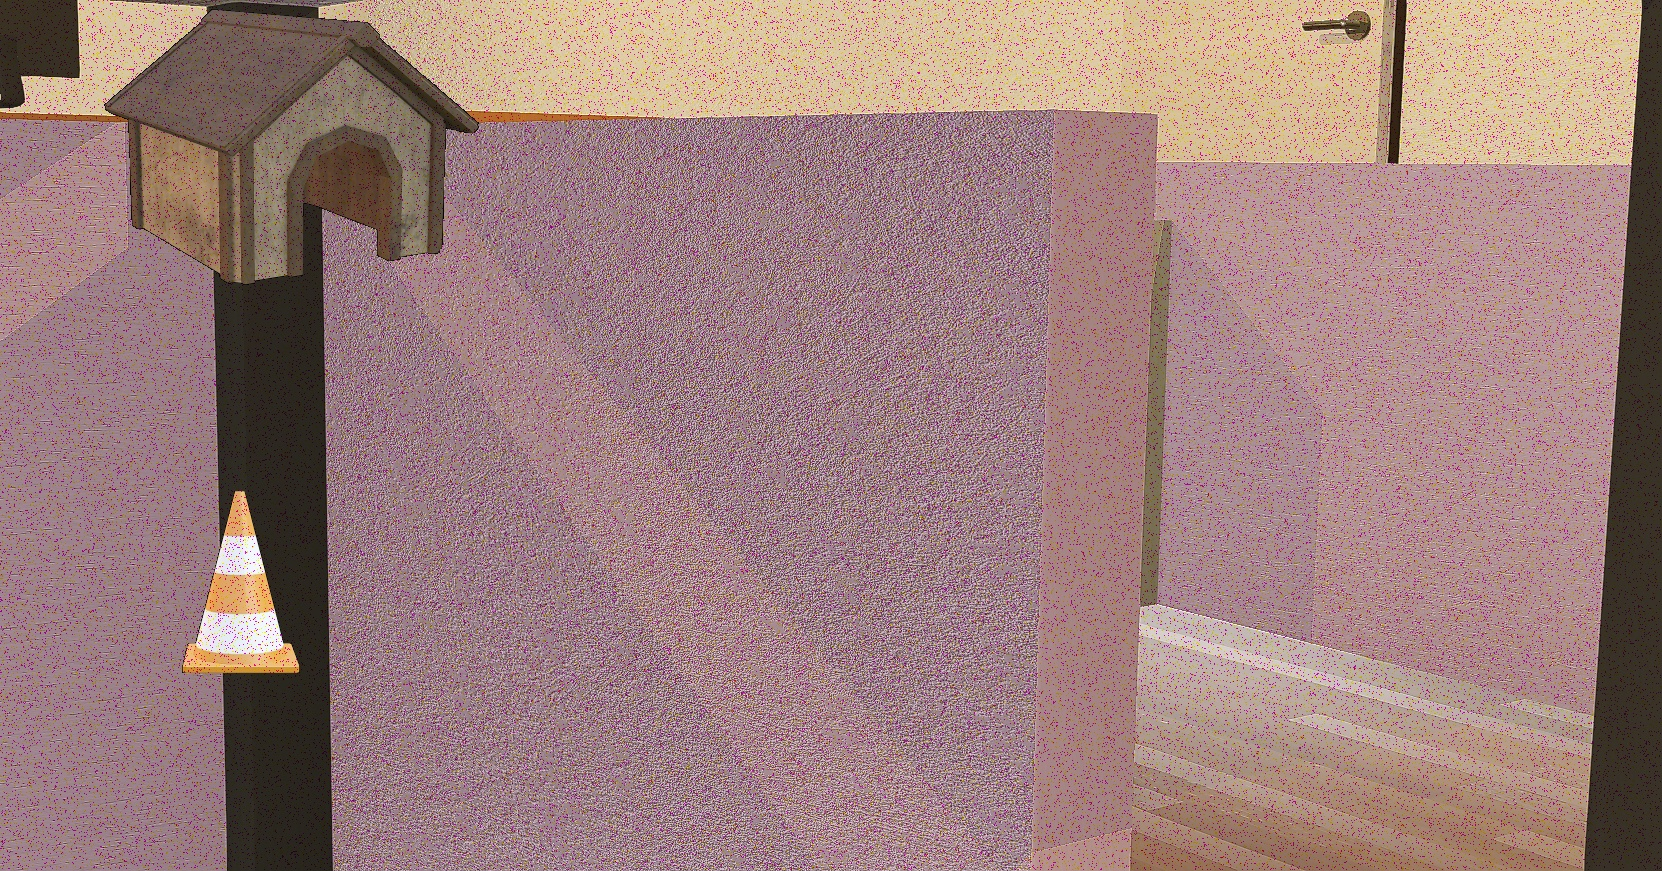casa: (104, 9, 479, 285)
cono: (182, 490, 300, 674)
